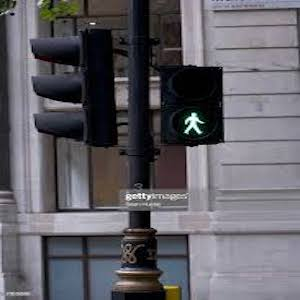green: (181, 110, 208, 139)
